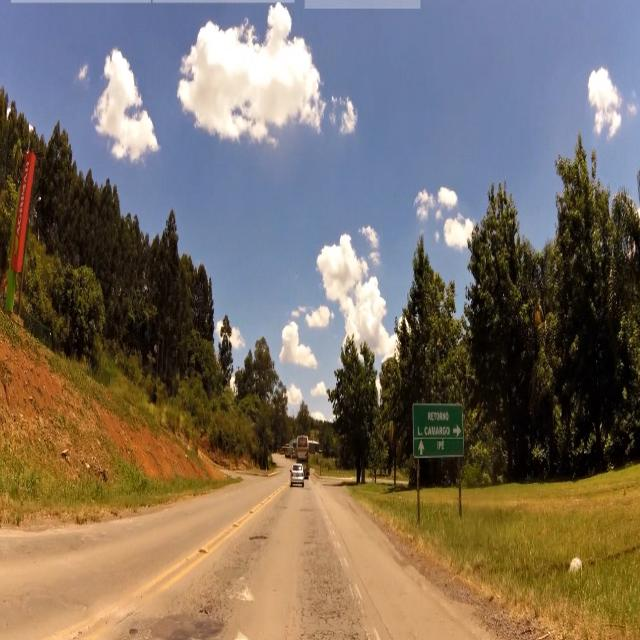I-4: (413, 401, 465, 458)
